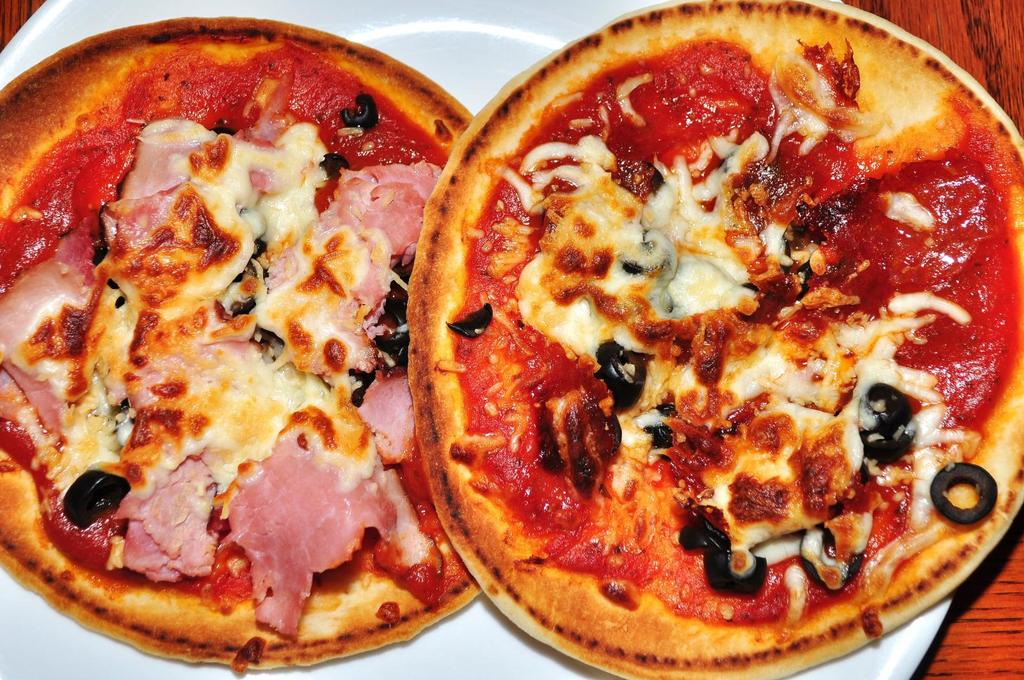pizza: (401, 0, 1022, 679), (0, 13, 490, 678)
